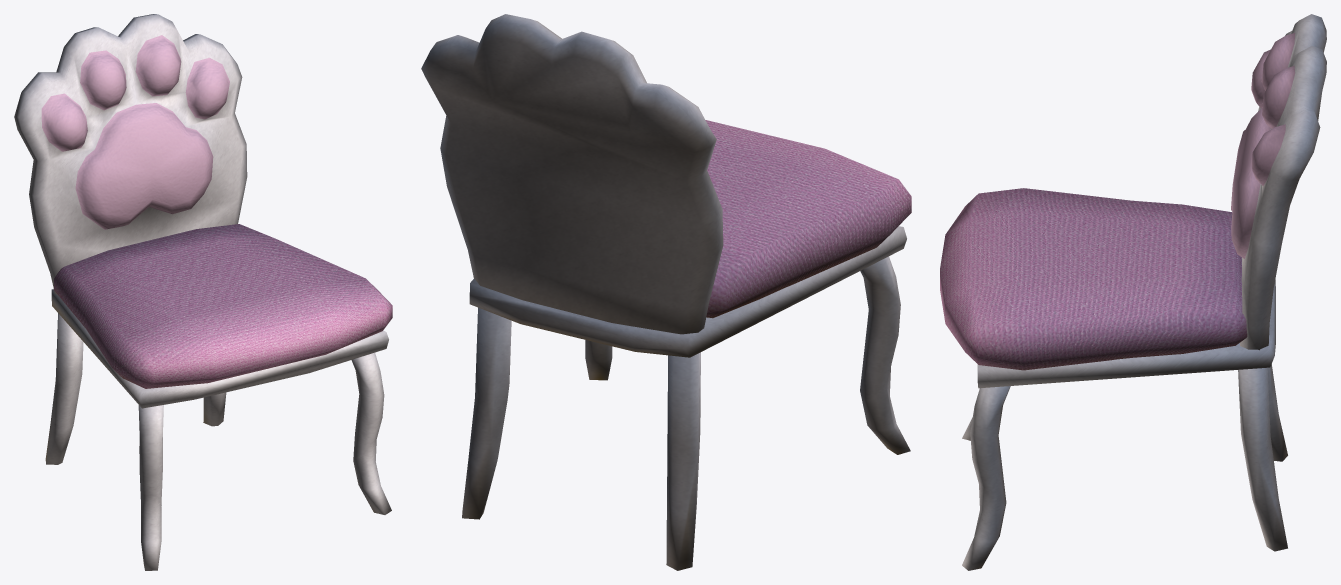
Rendered from Chair.fbx.
3 renders of one model, left to right at view 1: azimuth 30°, elevation 25°; view 2: azimuth 150°, elevation 25°; view 3: azimuth 270°, elevation 25°, orthographic. The views are drawn at different scales.
Visible parts, largest first — view 1: chair; view 2: chair; view 3: chair.
Part boxes in pixels (left/top/right/bottom): chair: left=14, top=14, right=392, bottom=570; chair: left=421, top=14, right=911, bottom=570; chair: left=940, top=14, right=1326, bottom=570.
Bounding box in the file's own units: 0.6152 × 0.9077 × 0.6812.
